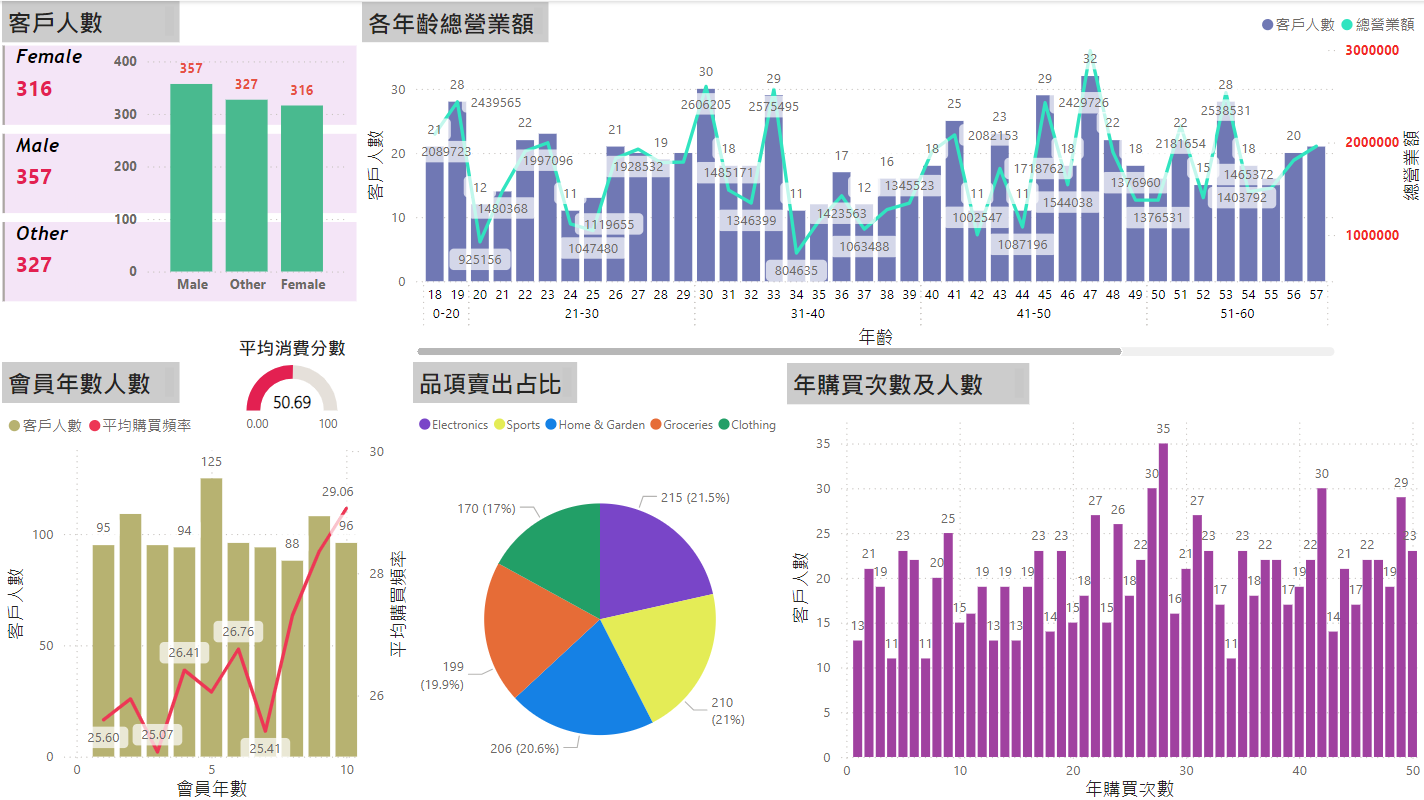

The page's visual inventory and layout, read from the dashboard file:
{"tool":"powerbi","page":{"name":"第 1 頁","canvas":[1280,720],"ordinal":0},"visuals":[{"type":"multiRowCard","fields":{"Values":["customerdataset customerinfo.gender","CountNonNull(customerdataset customerinfo.id)"]},"box":[0,34.9,326.9,288.4],"z":0},{"type":"lineClusteredColumnComboChart","fields":{"Y":["CountNonNull(customerdataset customerinfo.id)"],"Category":["customerinfo.agegroup","customerdataset customerinfo.age"],"Y2":["Sum(customerdataset customerinfo.income)"]},"box":[326.9,0.9,952.8,322.4],"z":1000},{"type":"textbox","box":[326.9,0.9,167.5,35.8],"z":2000},{"type":"textbox","box":[4.5,323.3,158.5,36.7],"z":3000},{"type":"lineStackedColumnComboChart","fields":{"Category":["customerdataset customerinfo.membership_years"],"Y2":["Avg(customerdataset customerinfo.purchase_frequency)"],"Y":["CountNonNull(customerdataset customerinfo.id)"]},"box":[4.5,360,368.1,360],"z":4000},{"type":"textbox","box":[372.5,323.3,146.9,36.7],"z":5000},{"type":"textbox","box":[4.8,0,158.7,36.5],"z":6000},{"type":"pieChart","title":"首次購買次數","fields":{"Category":["customerdataset customerinfo.preferred_category"],"Y":["CountNonNull(customerdataset customerinfo.preferred_category)"]},"box":[372.5,360,334.9,360],"z":7000},{"type":"gauge","title":"平均消費分數","fields":{"Y":["Avg(customerdataset customerinfo.spending_score)"],"MaxValue":["Max(customerdataset customerinfo.spending_score)1"]},"box":[195.2,300,137.9,96.7],"z":8000},{"type":"columnChart","fields":{"Category":["customerdataset customerinfo.purchase_frequency"],"Y":["CountNonNull(customerdataset customerinfo.id)"]},"box":[707.5,360,572.2,360],"z":9000},{"type":"textbox","box":[707.5,324.2,216.7,36.7],"z":10000},{"type":"columnChart","fields":{"Category":["customerinfo.gender"],"Y":["CountNonNull(customerinfo.id)"]},"box":[99.4,36.7,219.4,235.5],"z":11000}]}

Visuals, with their boxes in screenshot pixels (x1, y1, x2, y2), scaled from the page's 1280x720 canvas onto the 1424x800 screenshot:
multiRowCard - customerdataset customerinfo.gender x CountNonNull(customerdataset customerinfo.id): Rect(0, 39, 364, 359)
lineClusteredColumnComboChart - CountNonNull(customerdataset customerinfo.id) x customerinfo.agegroup: Rect(364, 1, 1423, 359)
textbox: Rect(364, 1, 550, 41)
textbox: Rect(5, 359, 181, 400)
lineStackedColumnComboChart - customerdataset customerinfo.membership_years x Avg(customerdataset customerinfo.purchase_frequency): Rect(5, 400, 415, 799)
textbox: Rect(414, 359, 578, 400)
textbox: Rect(5, 0, 182, 41)
"首次購買次數" pieChart: Rect(414, 400, 787, 799)
"平均消費分數" gauge: Rect(217, 333, 371, 441)
columnChart - customerdataset customerinfo.purchase_frequency x CountNonNull(customerdataset customerinfo.id): Rect(787, 400, 1423, 799)
textbox: Rect(787, 360, 1028, 401)
columnChart - customerinfo.gender x CountNonNull(customerinfo.id): Rect(111, 41, 355, 302)
